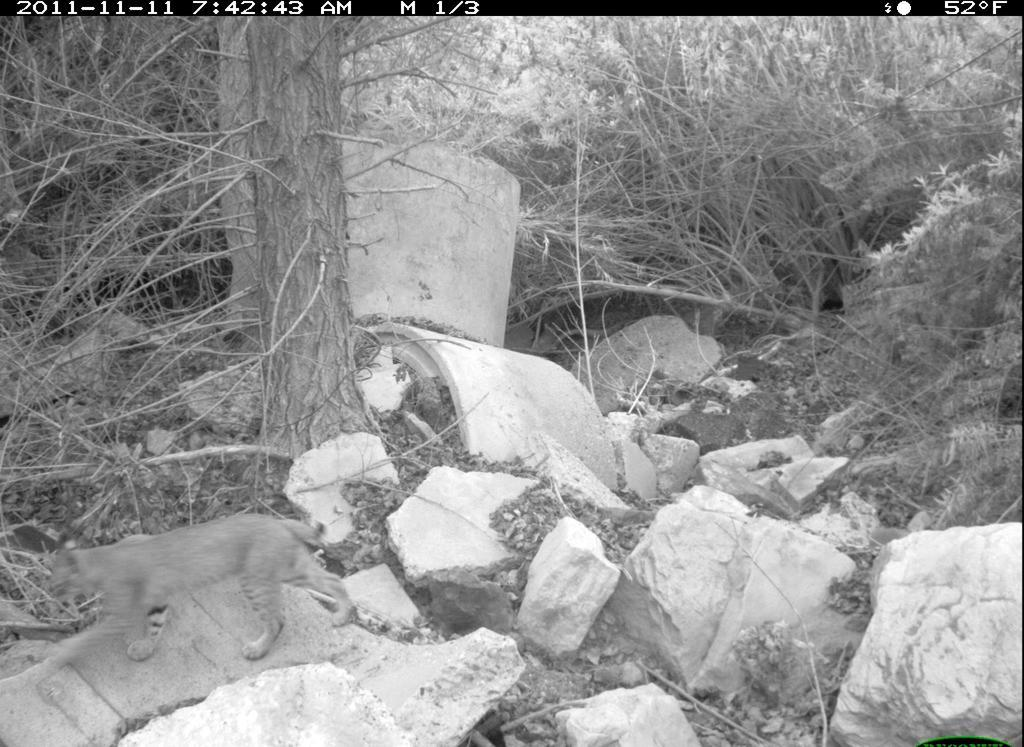bobcat: (35, 509, 370, 669)
